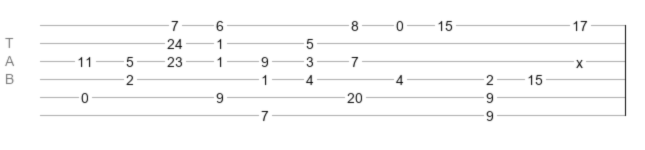0: (81, 90, 89, 100), (396, 18, 404, 28)
1: (216, 54, 224, 64), (216, 36, 224, 46), (261, 72, 269, 82)
11: (77, 54, 93, 64)
15: (437, 18, 453, 28), (527, 72, 543, 82)
17: (572, 18, 588, 28)
2: (126, 72, 134, 82), (486, 72, 494, 82)
20: (347, 90, 363, 100)
23: (167, 54, 183, 64)
24: (167, 36, 183, 46)
3: (306, 54, 314, 64)
4: (306, 72, 314, 82), (396, 72, 404, 82)
5: (126, 54, 134, 64), (306, 36, 314, 46)
6: (216, 18, 224, 28)
7: (171, 18, 179, 28), (261, 108, 269, 118), (351, 54, 359, 64)
8: (351, 18, 359, 28)
9: (216, 90, 224, 100), (261, 54, 269, 64), (486, 108, 494, 118), (486, 90, 494, 100)
x: (576, 55, 583, 63)
